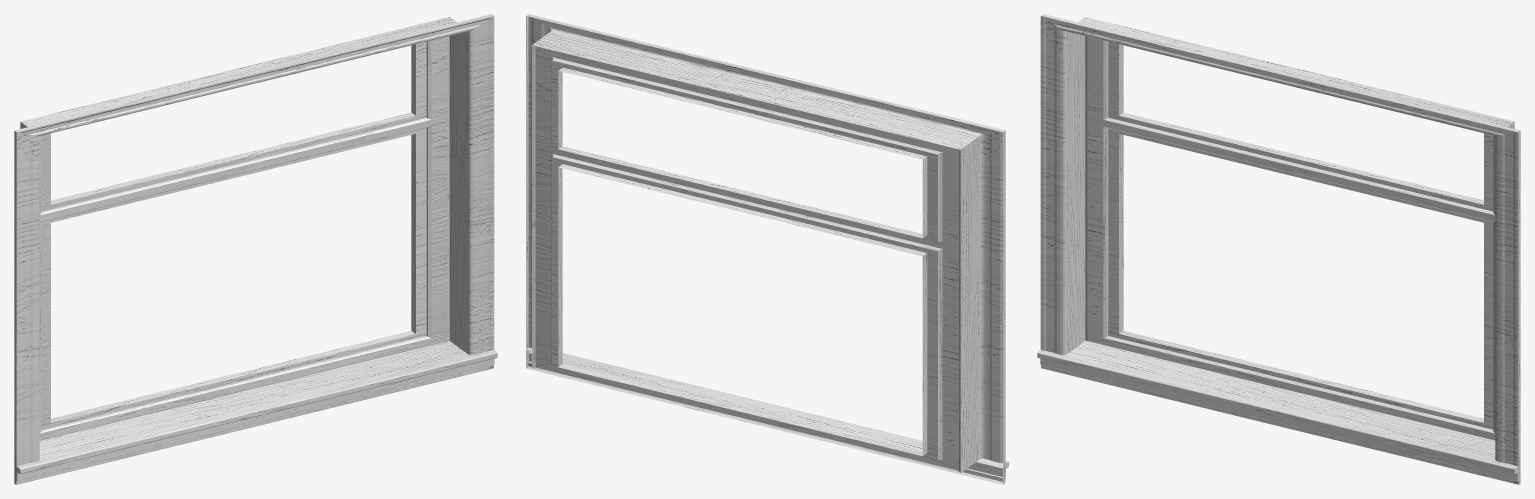
Rendered from window.fbx.
3 views of the same model, side by side, from view 1: azimuth 30°, elevation 25°; view 2: azimuth 150°, elevation 25°; view 3: azimuth 330°, elevation 25° (orthographic).
Parts seen in each view (by area): view 1: window2; view 2: window2; view 3: window2.
Part boxes in pixels (left/top/right/bottom): window2: left=14, top=14, right=497, bottom=484; window2: left=526, top=14, right=1008, bottom=484; window2: left=1037, top=14, right=1520, bottom=484.
Bounding box in the file's own units: 56.16 × 39.69 × 6.13.
